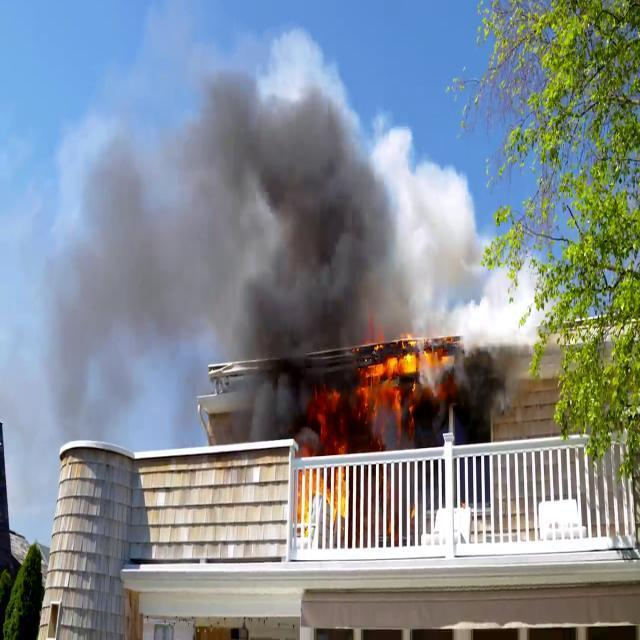Fire: (369, 317, 436, 409)
Smoke: (63, 21, 404, 468)
